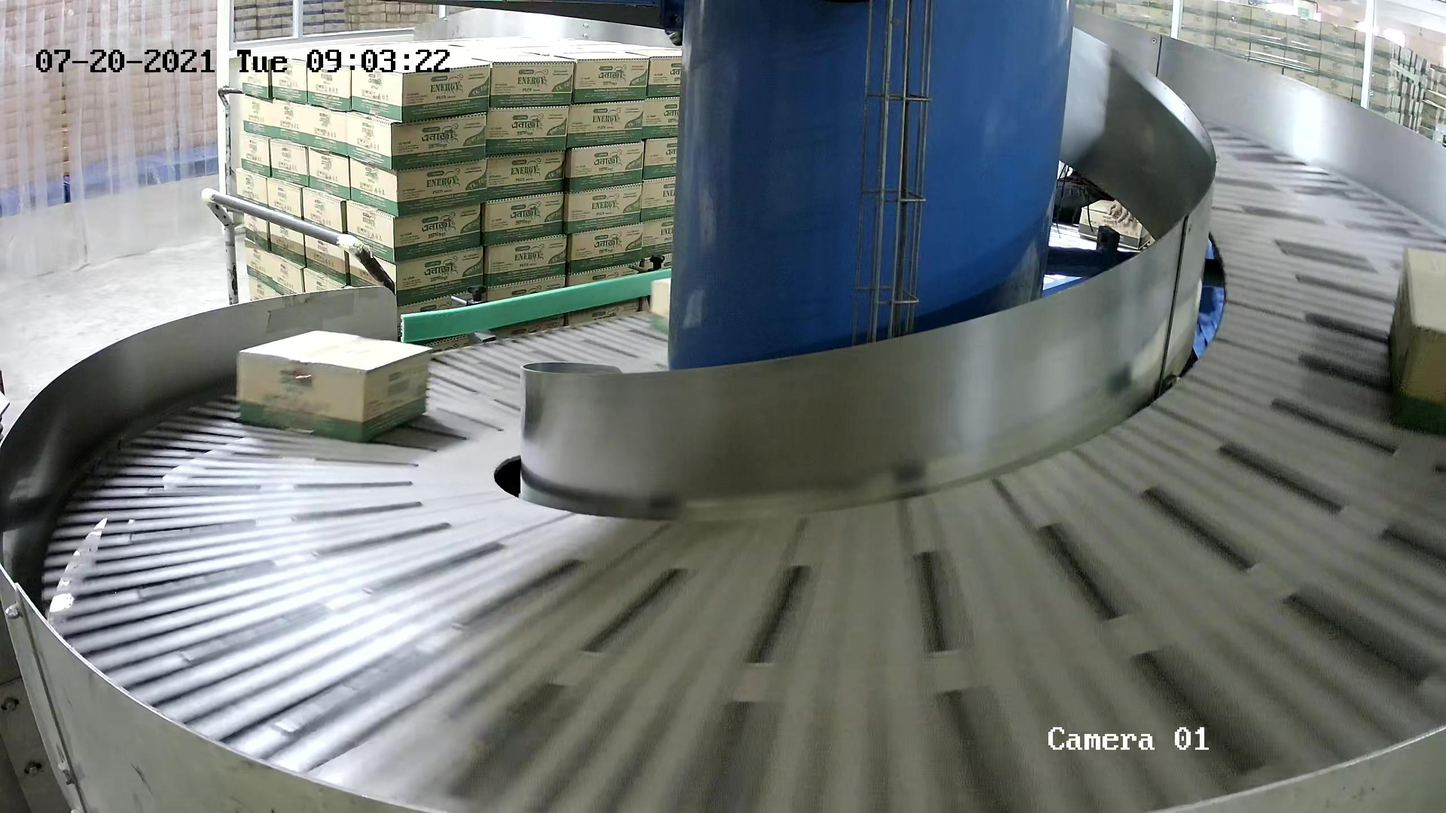Box: (236, 329, 433, 443), (1387, 246, 1446, 431), (648, 276, 671, 333)
